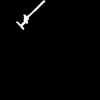double_crochet: (17, 1, 44, 28)
